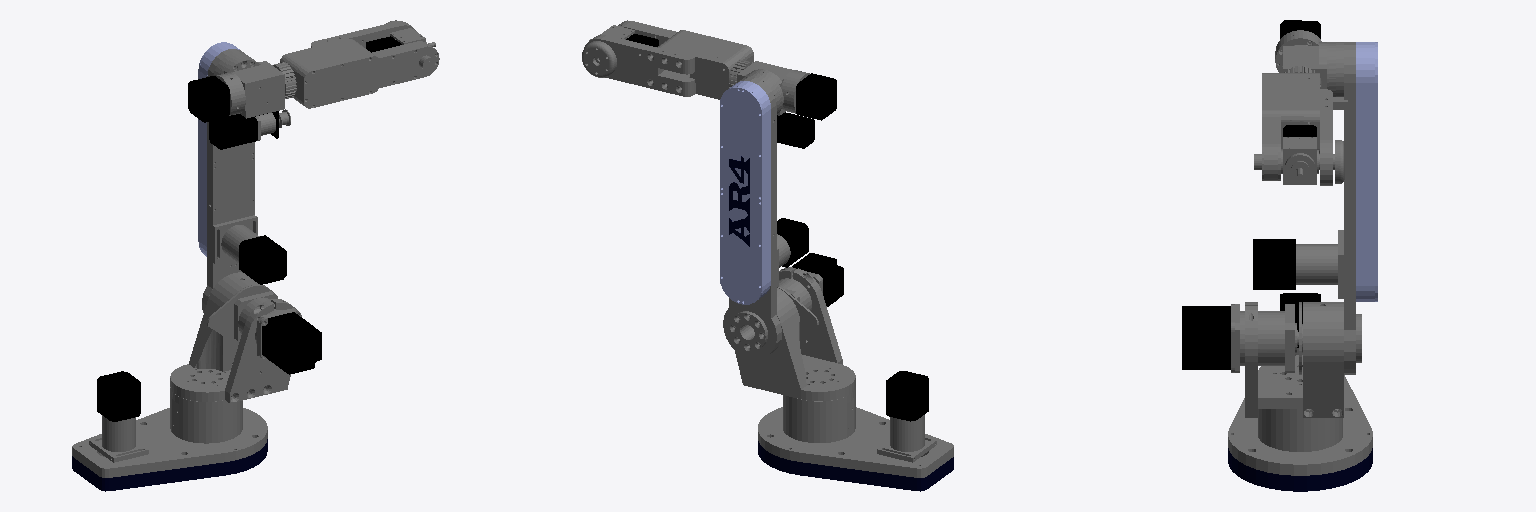
The robot description file, URDF, robot "ar4":
<?xml version="1.0" ?>
<!-- =================================================================================== -->
<!-- |    This document was autogenerated by xacro from src/project/ar4_mujoco_sim/xacro/mj_ar4.urdf.xacro | -->
<!-- |    EDITING THIS FILE BY HAND IS NOT RECOMMENDED                                 | -->
<!-- =================================================================================== -->
<robot name="ar4">
  <!-- ===================== Arm link xacro ================================== -->
  <material name="black">
    <color rgba="0.0 0.0 0.0 1.0"/>
  </material>
  <material name="blue">
    <color rgba="0.020 0.032 0.171 1.0"/>
  </material>
  <material name="white">
    <color rgba="0.631 0.665 0.831 1.0"/>
  </material>
  <material name="grey">
    <color rgba="0.5 0.5 0.5 1.0"/>
  </material>
  <!-- ===================== Box inertia xacro ================================== -->
  <!-- params -->
  <!-- - m [float] link mass; -->
  <!-- - x [float] link dimension on the X-axis; -->
  <!-- - y [float] link dimension on the Y-axis; -->
  <!-- - z [float] link dimension on the Z-axis; -->
  <!-- - o_xyz [string] position offset -->
  <!-- - o_rpy [string] rotation offset -->
  <!-- ========================================================================== -->
  <link name="base_link">
    <origin rpy="0 0 0" xyz="0 0 0"/>
    <inertial>
      <mass value="0.7102"/>
      <inertia ixx="0.0007397916666666669" ixy="0.0" ixz="0.0" iyy="0.0035569183333333337" iyz="0.0" izz="0.004000793333333333"/>
      <origin rpy="0.0 0.0 0.0" xyz="-0.05 0.0 0.02"/>
    </inertial>
    <visual>
      <origin rpy="0.0 0.0 1.5708" xyz="0.0 0.0 0.0"/>
      <geometry>
        <mesh filename="meshes/base_link.stl"/>
      </geometry>
      <material name="grey"/>
    </visual>
    <visual>
      <origin rpy="0.0 0.0 1.5708" xyz="0.0 0.0 0.0"/>
      <geometry>
        <mesh filename="meshes/base_link_bottom.stl"/>
      </geometry>
      <material name="blue"/>
    </visual>
    <visual>
      <origin rpy="0.0 0.0 1.5708" xyz="0.0 0.0 0.0"/>
      <geometry>
        <mesh filename="meshes/base_link_motor.stl"/>
      </geometry>
      <material name="black"/>
    </visual>
    <collision>
      <origin rpy="0.0 0.0 1.5708" xyz="0.0 0.0 0.0"/>
      <geometry>
        <mesh filename="meshes/base_link_collision.stl"/>
      </geometry>
    </collision>
  </link>
  <link name="link_1">
    <origin rpy="0 0 0" xyz="0 0 0"/>
    <inertial>
      <mass value="0.88065"/>
      <inertia ixx="0.003669375000000001" ixy="0.0" ixz="0.0" iyy="0.003669375000000001" iyz="0.0" izz="0.0014677500000000005"/>
      <origin rpy="0.610865 0.418879 0.0" xyz="0.04 -0.01 0.1"/>
    </inertial>
    <visual>
      <origin rpy="3.1415 0.0 1.5708" xyz="0.0 0.0 0.0"/>
      <geometry>
        <mesh filename="meshes/link_1.stl"/>
      </geometry>
      <material name="grey"/>
    </visual>
    <visual>
      <origin rpy="3.1415 0.0 1.5708" xyz="0.0 0.0 0.0"/>
      <geometry>
        <mesh filename="meshes/link_1_motor.stl"/>
      </geometry>
      <material name="black"/>
    </visual>
    <collision>
      <origin rpy="3.1415 0.0 1.5708" xyz="0.0 0.0 0.0"/>
      <geometry>
        <mesh filename="meshes/link_1_collision.stl"/>
      </geometry>
    </collision>
  </link>
  <joint name="joint_1" type="revolute">
    <origin rpy="0 0 0" xyz="0 0 0"/>
    <parent link="base_link"/>
    <child link="link_1"/>
    <axis xyz="0 0 1"/>
    <limit effort="100" lower="-2.96705972839036" upper="2.96705972839036" velocity="0.5"/>
  </joint>
  <link name="link_2">
    <origin rpy="0 0 0" xyz="0 0 0"/>
    <inertial>
      <mass value="0.57738"/>
      <inertia ixx="0.0067168539999999995" ixy="0.0" ixz="0.0" iyy="0.0009623000000000001" iyz="0.0" izz="0.0067168539999999995"/>
      <origin rpy="0.0 0.0 0.0" xyz="0.0 -0.15 0.03"/>
    </inertial>
    <visual>
      <origin rpy="0.0 3.1415 0.0" xyz="0.0 0.0 0.0"/>
      <geometry>
        <mesh filename="meshes/link_2.stl"/>
      </geometry>
      <material name="grey"/>
    </visual>
    <visual>
      <origin rpy="0.0 3.1415 0.0" xyz="0.0 0.0 0.0"/>
      <geometry>
        <mesh filename="meshes/link_2_motor.stl"/>
      </geometry>
      <material name="black"/>
    </visual>
    <visual>
      <origin rpy="0.0 3.1415 0.0" xyz="0.0 0.0 0.0"/>
      <geometry>
        <mesh filename="meshes/link_2_cover.stl"/>
      </geometry>
      <material name="white"/>
    </visual>
    <visual>
      <origin rpy="0.0 3.1415 0.0" xyz="0.0 0.0 0.0"/>
      <geometry>
        <mesh filename="meshes/link_2_cover_logo.stl"/>
      </geometry>
      <material name="blue"/>
    </visual>
    <collision>
      <origin rpy="0.0 3.1415 0.0" xyz="0.0 0.0 0.0"/>
      <geometry>
        <mesh filename="meshes/link_2_collision.stl"/>
      </geometry>
    </collision>
  </link>
  <joint name="joint_2" type="revolute">
    <origin rpy="-1.5708 0 0" xyz="0.0642 0 0.16977"/>
    <parent link="link_1"/>
    <child link="link_2"/>
    <axis xyz="0 0 1"/>
    <limit effort="100" lower="-0.7330382858376184" upper="1.5707963267948966" velocity="0.5"/>
  </joint>
  <link name="link_3">
    <origin rpy="0 0 0" xyz="0 0 0"/>
    <inertial>
      <mass value="0.1787"/>
      <inertia ixx="0.0002516691666666666" ixy="0.0" ixz="0.0" iyy="0.00018614583333333336" iyz="0.0" izz="0.00036335666666666665"/>
      <origin rpy="0.0 0.0 0.0" xyz="-0.01 0.0 0.0"/>
    </inertial>
    <visual>
      <origin rpy="3.1415 0.0 1.5708" xyz="0.0 0.0 0.0"/>
      <geometry>
        <mesh filename="meshes/link_3.stl"/>
      </geometry>
      <material name="grey"/>
    </visual>
    <visual>
      <origin rpy="3.1415 0.0 1.5708" xyz="0.0 0.0 0.0"/>
      <geometry>
        <mesh filename="meshes/link_3_motor.stl"/>
      </geometry>
      <material name="black"/>
    </visual>
    <visual>
      <origin rpy="3.1415 0.0 1.5708" xyz="0.0 0.0 0.0"/>
      <geometry>
        <mesh filename="meshes/link_3_misc.stl"/>
      </geometry>
      <material name="black"/>
    </visual>
    <collision>
      <origin rpy="3.1415 0.0 1.5708" xyz="0.0 0.0 0.0"/>
      <geometry>
        <mesh filename="meshes/link_3_collision.stl"/>
      </geometry>
    </collision>
  </link>
  <joint name="joint_3" type="revolute">
    <origin rpy="0 0 -1.5708" xyz="0 -0.305 0"/>
    <parent link="link_2"/>
    <child link="link_3"/>
    <axis xyz="0 0 1"/>
    <limit effort="100" lower="-1.5533430342749532" upper="0.9075712110370513" velocity="0.5"/>
  </joint>
  <link name="link_4">
    <origin rpy="0 0 0" xyz="0 0 0"/>
    <inertial>
      <mass value="0.34936"/>
      <inertia ixx="0.003086013333333334" ixy="0.0" ixz="0.0" iyy="0.003086013333333334" iyz="0.0" izz="0.000209616"/>
      <origin rpy="0.0 0.0 0.0" xyz="0.0 0.0 0.08"/>
    </inertial>
    <visual>
      <origin rpy="0.0 3.1415 0.0" xyz="0.0 0.0 0.0"/>
      <geometry>
        <mesh filename="meshes/link_4.stl"/>
      </geometry>
      <material name="grey"/>
    </visual>
    <visual>
      <origin rpy="0.0 3.1415 0.0" xyz="0.0 0.0 0.0"/>
      <geometry>
        <mesh filename="meshes/link_4_motor.stl"/>
      </geometry>
      <material name="black"/>
    </visual>
    <collision>
      <origin rpy="0.0 3.1415 0.0" xyz="0.0 0.0 0.0"/>
      <geometry>
        <mesh filename="meshes/link_4_collision.stl"/>
      </geometry>
    </collision>
  </link>
  <joint name="joint_4" type="revolute">
    <origin rpy="-1.5708 0 0" xyz="0 0 0.0"/>
    <parent link="link_3"/>
    <child link="link_4"/>
    <axis xyz="0 0 1"/>
    <limit effort="100" lower="-2.8797932657906435" upper="2.8797932657906435" velocity="0.5"/>
  </joint>
  <link name="link_5">
    <origin rpy="0 0 0" xyz="0 0 0"/>
    <inertial>
      <mass value="0.11562"/>
      <inertia ixx="7.708e-05" ixy="0.0" ixz="0.0" iyy="0.000158014" iyz="0.0" izz="0.00011176600000000001"/>
      <origin rpy="0.0 0.0 0.0" xyz="0.0 0.0 0.0"/>
    </inertial>
    <visual>
      <origin rpy="0.0 -1.5708 0.0" xyz="0.0 0.0 0.0"/>
      <geometry>
        <mesh filename="meshes/link_5.stl"/>
      </geometry>
      <material name="grey"/>
    </visual>
    <visual>
      <origin rpy="0.0 -1.5708 0.0" xyz="0.0 0.0 0.0"/>
      <geometry>
        <mesh filename="meshes/link_5_motor.stl"/>
      </geometry>
      <material name="black"/>
    </visual>
    <collision>
      <origin rpy="0.0 -1.5708 0.0" xyz="0.0 0.0 0.0"/>
      <geometry>
        <mesh filename="meshes/link_5_collision.stl"/>
      </geometry>
    </collision>
  </link>
  <joint name="joint_5" type="revolute">
    <origin rpy="1.5707963267948966 1.5707963267948966 0" xyz="0 0 0.22263"/>
    <parent link="link_4"/>
    <child link="link_5"/>
    <axis xyz="0 0 1"/>
    <limit effort="100" lower="-0.2617993877991494" upper="3.4033920413889422" velocity="1.0"/>
  </joint>
  <link name="link_6">
    <origin rpy="0 0 0" xyz="0 0 0"/>
    <inertial>
      <mass value="0.013863"/>
      <inertia ixx="9.242000000000001e-07" ixy="0.0" ixz="0.0" iyy="2.3105e-06" iyz="0.0" izz="2.3105e-06"/>
      <origin rpy="0.0 0.0 0.0" xyz="0.0 0.0 -0.01"/>
    </inertial>
    <visual>
      <origin rpy="0.0 0.0 0.0" xyz="0.0 0.0 0.0"/>
      <geometry>
        <mesh filename="meshes/link_6.stl"/>
      </geometry>
      <material name="grey"/>
    </visual>
    <collision>
      <origin rpy="0.0 0.0 0.0" xyz="0.0 0.0 0.0"/>
      <geometry>
        <mesh filename="meshes/link_6_collision.stl"/>
      </geometry>
    </collision>
  </link>
  <joint name="joint_6" type="revolute">
    <origin rpy="0 -1.5708 0" xyz="-0.03625 0 0"/>
    <parent link="link_5"/>
    <child link="link_6"/>
    <axis xyz="0 0 1"/>
    <limit effort="100" lower="-2.705260340591211" upper="2.705260340591211" velocity="1.0"/>
  </joint>
  <!-- Dummy joint to remove the  "Joint '*_mimic' not found in model 'ar4'" error-->
  <!-- See https://github.com/ros-controls/gazebo_ros2_control/issues/173 -->
  <joint name="finger_joint_2_mimic" type="fixed">
    <parent link="base_link"/>
    <child link="dummy"/>
    <origin rpy="0 0 0" xyz="0 0 0"/>
  </joint>
  <link name="dummy"/>
  <joint name="gripper_base_joint" type="fixed">
    <origin rpy="-1.5707963267948966 0.0 0" xyz="0.0 0.0 0.0"/>
    <parent link="link_6"/>
    <child link="gripper_base_link"/>
  </joint>
  <link name="gripper_base_link">
    <origin rpy="0 0 0" xyz="0 0 0"/>
    <inertial>
      <mass value="0.08"/>
      <inertia ixx="5.333333333333334e-06" ixy="0.0" ixz="0.0" iyy="1.0833333333333335e-05" iyz="0.0" izz="1.0833333333333335e-05"/>
      <origin rpy="0.0 0.0 0.0" xyz="0.0 -0.025 0.0"/>
    </inertial>
    <visual>
      <origin rpy="0.0 0.0 0.0" xyz="0.0 0.0 0.0"/>
      <geometry>
        <mesh filename="meshes/gripper_base.stl"/>
      </geometry>
      <material name="grey"/>
    </visual>
    <collision>
      <origin rpy="0.0 0.0 0.0" xyz="0.0 0.0 0.0"/>
      <geometry>
        <mesh filename="meshes/gripper_base_collision.stl"/>
      </geometry>
    </collision>
  </link>
  <joint name="finger_joint_1" type="prismatic">
    <origin rpy="0.0 0.0 0.0" xyz="0.0 -0.036 0"/>
    <parent link="gripper_base_link"/>
    <child link="finger_link_1"/>
    <axis xyz="1 0 0"/>
    <limit effort="100" lower="-0.014" upper="0" velocity="1.0"/>
  </joint>
  <link name="finger_link_1">
    <origin rpy="0 0 0" xyz="0 0 0"/>
    <inertial>
      <mass value="0.01"/>
      <inertia ixx="5.208333333333334e-07" ixy="0.0" ixz="0.0" iyy="3.741666666666667e-07" iyz="0.0" izz="2.2833333333333335e-07"/>
      <origin rpy="0.0 0.0 0.0" xyz="-0.005 -0.015 0.0"/>
    </inertial>
    <visual>
      <origin rpy="0.0 0.0 0.0" xyz="0.0 0.0 0.0"/>
      <geometry>
        <mesh filename="meshes/gripper_finger.stl"/>
      </geometry>
      <material name="black"/>
    </visual>
    <collision>
      <origin rpy="0.0 0.0 0.0" xyz="0.0 0.0 0.0"/>
      <geometry>
        <mesh filename="meshes/gripper_finger_collision.stl"/>
      </geometry>
    </collision>
  </link>
  <joint name="finger_joint_2" type="prismatic">
    <origin rpy="0.0 -3.141592653589793 0.0" xyz="0.0 -0.036 0"/>
    <parent link="gripper_base_link"/>
    <child link="finger_link_2"/>
    <axis xyz="1 0 0"/>
    <limit effort="100" lower="-0.014" upper="0" velocity="1.0"/>
    <mimic joint="finger_joint_1" multiplier="1" offset="0"/>
  </joint>
  <link name="finger_link_2">
    <origin rpy="0 0 0" xyz="0 0 0"/>
    <inertial>
      <mass value="0.01"/>
      <inertia ixx="5.208333333333334e-07" ixy="0.0" ixz="0.0" iyy="3.741666666666667e-07" iyz="0.0" izz="2.2833333333333335e-07"/>
      <origin rpy="0.0 0.0 0.0" xyz="-0.005 -0.015 0.0"/>
    </inertial>
    <visual>
      <origin rpy="0.0 0.0 0.0" xyz="0.0 0.0 0.0"/>
      <geometry>
        <mesh filename="meshes/gripper_finger.stl"/>
      </geometry>
      <material name="black"/>
    </visual>
    <collision>
      <origin rpy="0.0 0.0 0.0" xyz="0.0 0.0 0.0"/>
      <geometry>
        <mesh filename="meshes/gripper_finger_collision.stl"/>
      </geometry>
    </collision>
  </link>
  .


  <mujoco>
    <compiler balanceinertia="true" discardvisual="false" meshdir=""/>
  </mujoco>
  <ros2_control name="MujocoSystem" type="system">
    <hardware>
      <plugin>mujoco_ros2_control/MujocoSystem</plugin>
    </hardware>
    <joint name="joint_1">
      <param name="position_kp">100</param>
      <param name="position_ki">1</param>
      <param name="position_kd">10</param>
      <param name="position_i_max">10000</param>
      <command_interface name="position_pid"/>
      <state_interface name="position"/>
      <state_interface name="velocity"/>
    </joint>
    <joint name="joint_2">
      <param name="position_kp">100</param>
      <param name="position_ki">1</param>
      <param name="position_kd">10</param>
      <param name="position_i_max">10000</param>
      <command_interface name="position_pid"/>
      <state_interface name="position"/>
      <state_interface name="velocity"/>
    </joint>
    <joint name="joint_3">
      <param name="position_kp">100</param>
      <param name="position_ki">1</param>
      <param name="position_kd">10</param>
      <param name="position_i_max">10000</param>
      <command_interface name="position_pid"/>
      <state_interface name="position"/>
      <state_interface name="velocity"/>
    </joint>
    <joint name="joint_4">
      <param name="position_kp">100</param>
      <param name="position_ki">1</param>
      <param name="position_kd">10</param>
      <param name="position_i_max">10000</param>
      <command_interface name="position_pid"/>
      <state_interface name="position"/>
      <state_interface name="velocity"/>
    </joint>
    <joint name="joint_5">
      <param name="position_kp">100</param>
      <param name="position_ki">1</param>
      <param name="position_kd">10</param>
      <param name="position_i_max">10000</param>
      <command_interface name="position_pid"/>
      <state_interface name="position"/>
      <state_interface name="velocity"/>
    </joint>
    <joint name="joint_6">
      <param name="position_kp">100</param>
      <param name="position_ki">1</param>
      <param name="position_kd">10</param>
      <param name="position_i_max">10000</param>
      <command_interface name="position_pid"/>
      <state_interface name="position"/>
      <state_interface name="velocity"/>
    </joint>
  </ros2_control>
  <ros2_control name="GripperMujocoSystem" type="system">
    <hardware>
      <plugin>mujoco_ros2_control/MujocoSystem</plugin>
    </hardware>
    <joint name="finger_joint_1">
      <command_interface name="position"/>
      <state_interface name="position">
        <param name="initial_value">0.0</param>
      </state_interface>
      <state_interface name="velocity">
        <param name="initial_value">0.0</param>
      </state_interface>
    </joint>
    <joint name="finger_joint_2">
      <param name="mimic">finger_joint_1</param>
      <param name="multiplier">1</param>
      <state_interface name="position">
        <param name="initial_value">0.0</param>
      </state_interface>
      <state_interface name="velocity">
        <param name="initial_value">0.0</param>
      </state_interface>
    </joint>
  </ros2_control>
</robot>

--- What the picture shows (computed from the rendered views, not written in the file) ---
The picture shows the robot from 3 angles, left to right: view 1: azimuth 30°, elevation 25°; view 2: azimuth 150°, elevation 25°; view 3: azimuth 270°, elevation 25°; orthographic projection.
Model ar4 with 11 links and 10 joints (6 revolute, 2 prismatic, 2 fixed), rooted at base_link, posed every joint at zero.
Visible links, largest first — view 1: base_link, link_1, link_2, link_4, link_3, link_5; view 2: link_2, base_link, link_4, link_1, link_3, link_5; view 3: link_2, link_1, base_link, link_4, link_5, link_3.
Link boxes in pixels (box(x1,y1,x2,y2)): base_link: box(72, 371, 267, 491); link_1: box(170, 272, 321, 403); link_2: box(198, 42, 286, 341); link_4: box(188, 21, 439, 122); link_3: box(209, 55, 290, 149); link_5: box(366, 20, 435, 70); link_2: box(720, 72, 818, 358); base_link: box(758, 371, 953, 491); link_4: box(584, 20, 836, 120); link_1: box(735, 253, 855, 400); link_3: box(737, 61, 814, 148); link_5: box(582, 25, 658, 77); link_2: box(1253, 42, 1377, 374); link_1: box(1182, 302, 1343, 417); base_link: box(1228, 293, 1372, 491); link_4: box(1262, 20, 1332, 185); link_5: box(1254, 125, 1344, 184); link_3: box(1283, 42, 1347, 109).
Size in the robot's own frame: 0.4927 by 0.2021 by 0.5048 metres.
16 mesh visuals loaded from 19 distinct referenced files (16 binary STL); not drawn: 4 (reference not matched to a file when rendering).
